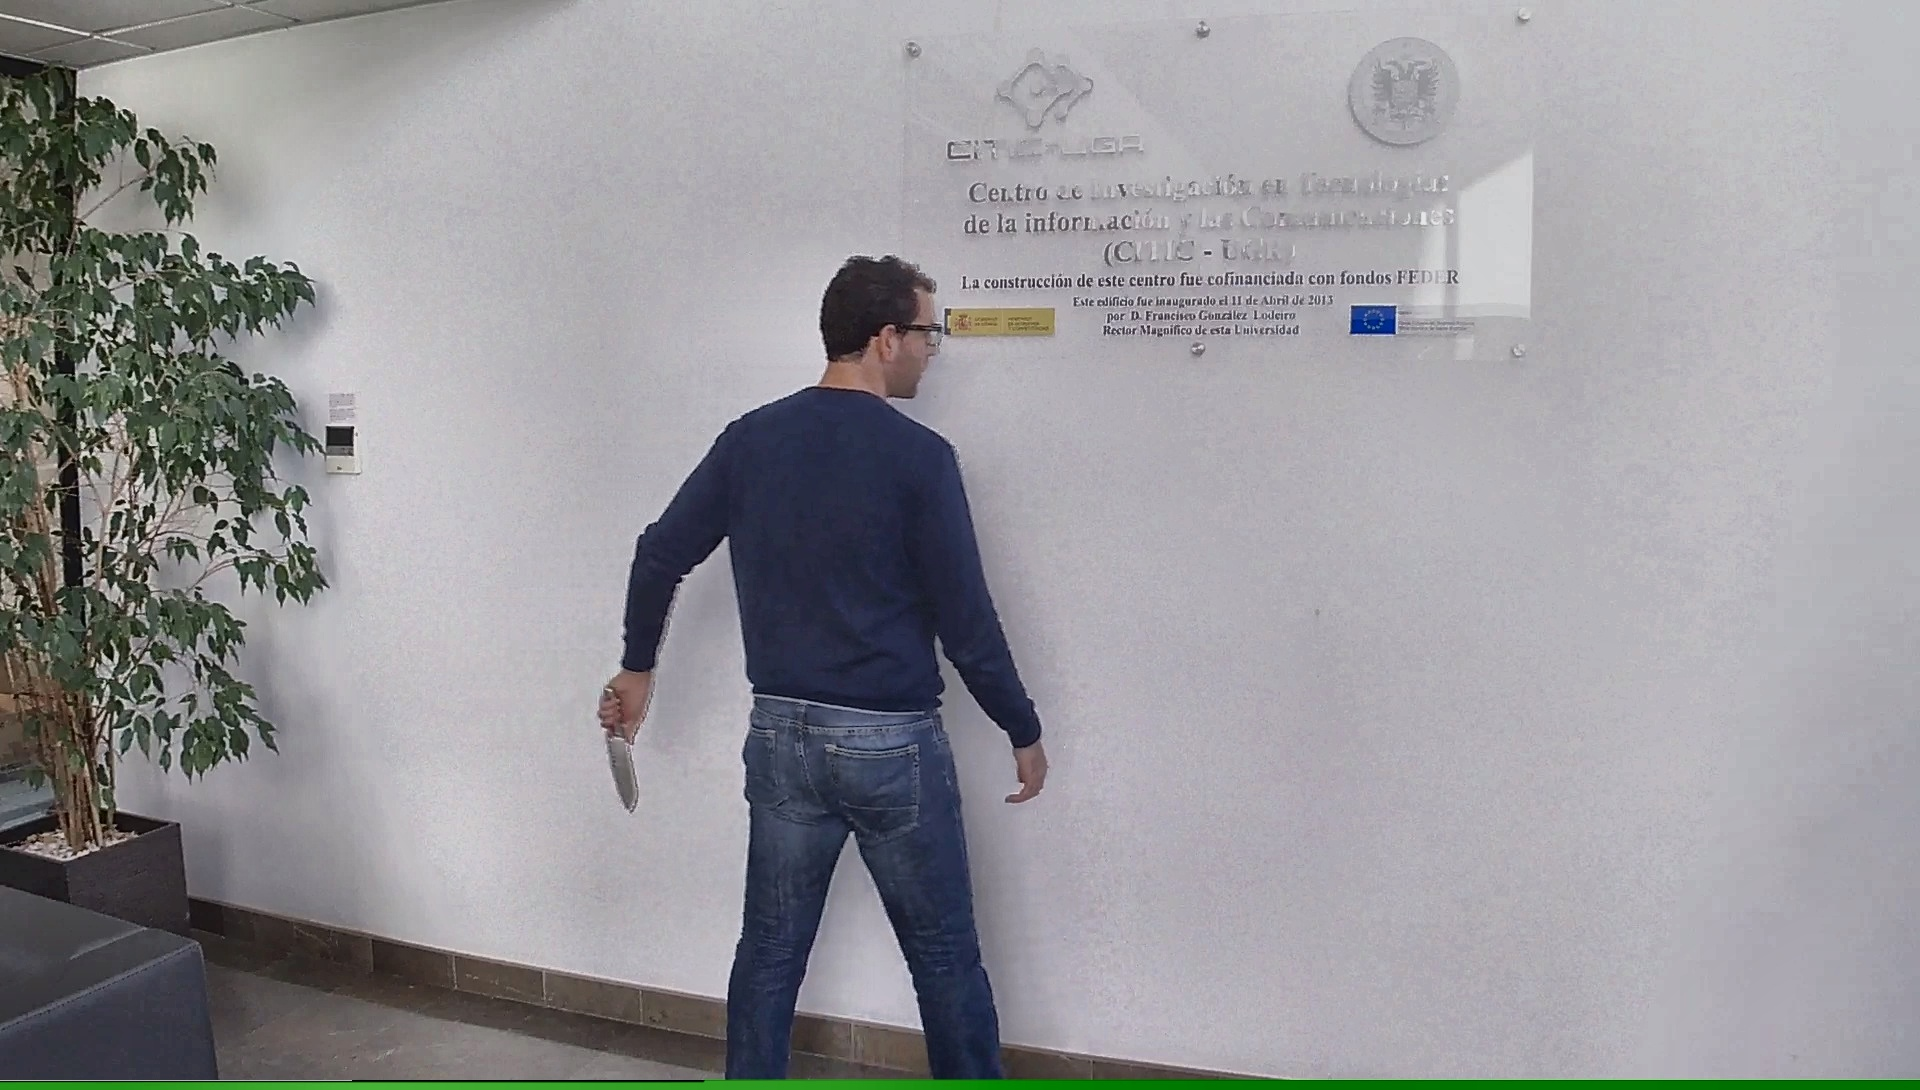knife: (592, 677, 650, 821)
